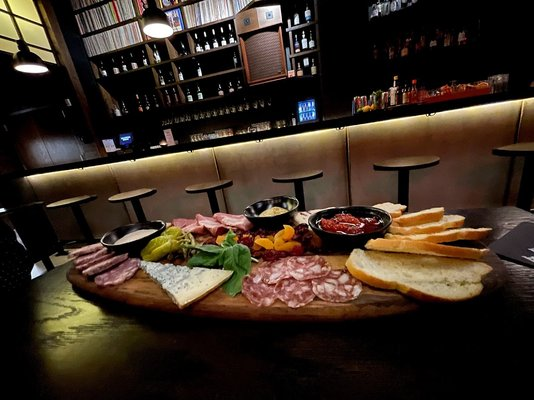sushi: (307, 205, 392, 252)
